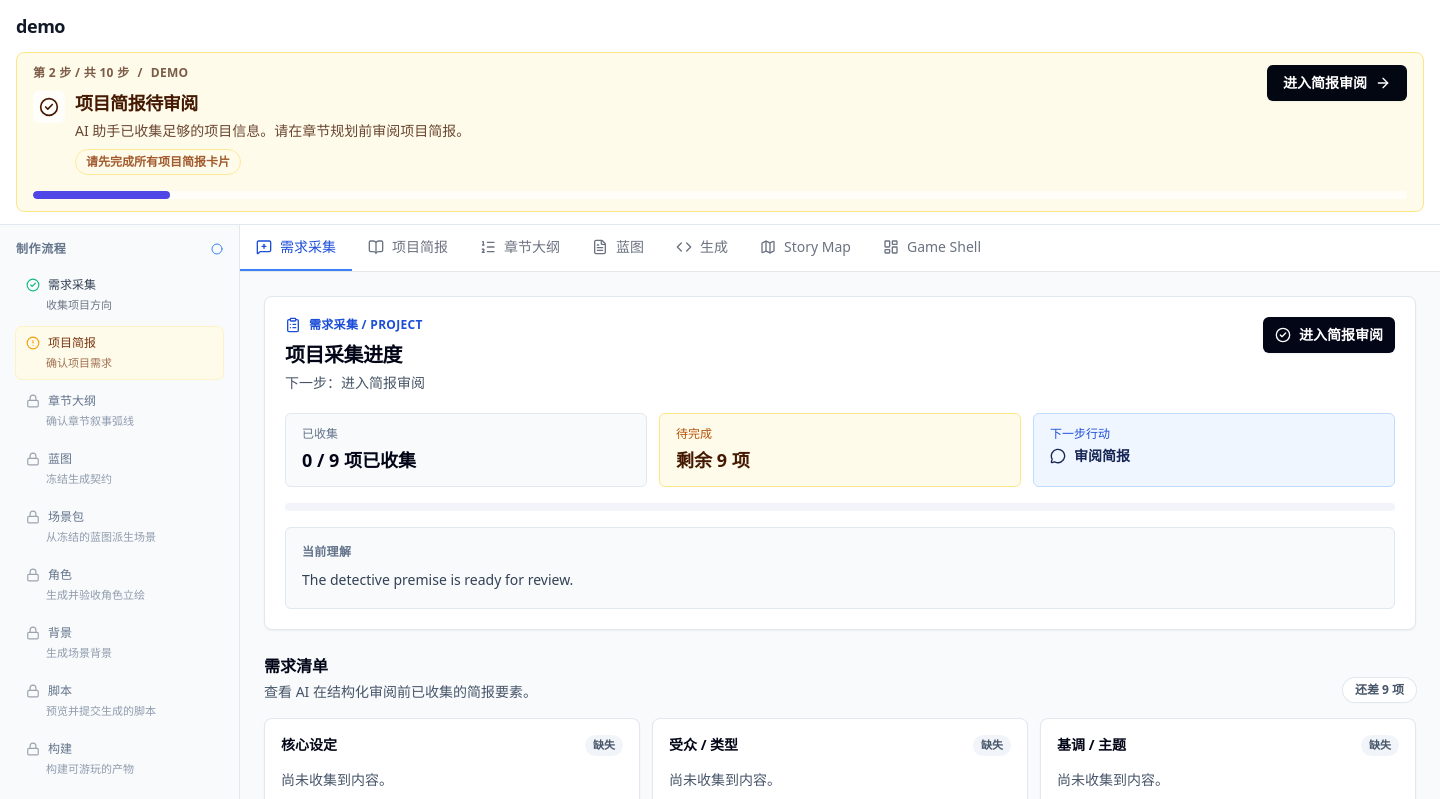
ProjectWorkspacePage brief promote flow › keeps the user on the intake tab and shows an inline error when brief promote fails
Step 1. Click the button with aria-label "Primary action: 进入简报审阅" → (1337, 83), box [1267,65,1407,101]
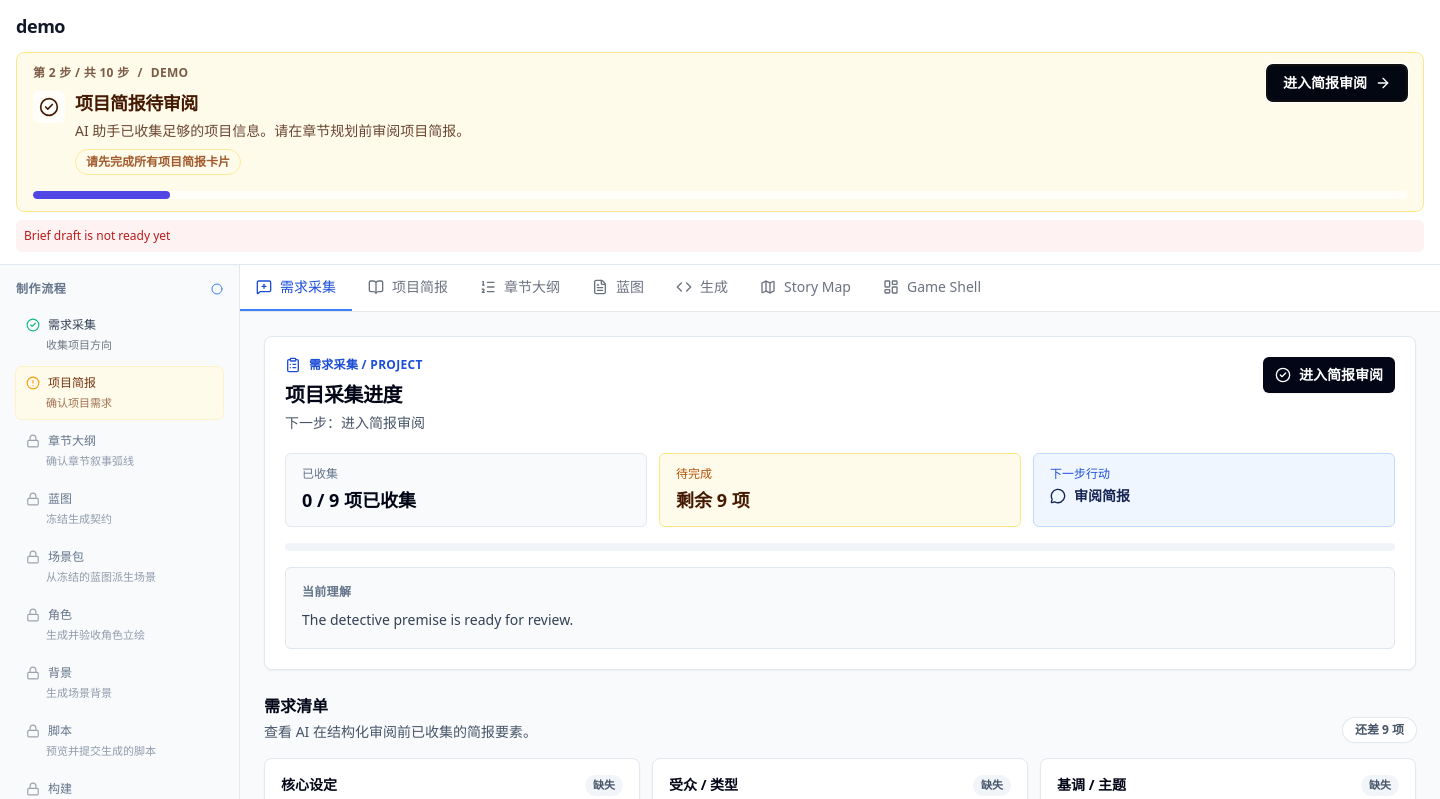
Expected: the element with test id "intake-progress-panel" is shown, [264,336,1416,670]
Result: the text with test id "brief-review-status" reads "Brief draft is not ready yet" at [24,227,170,244]
